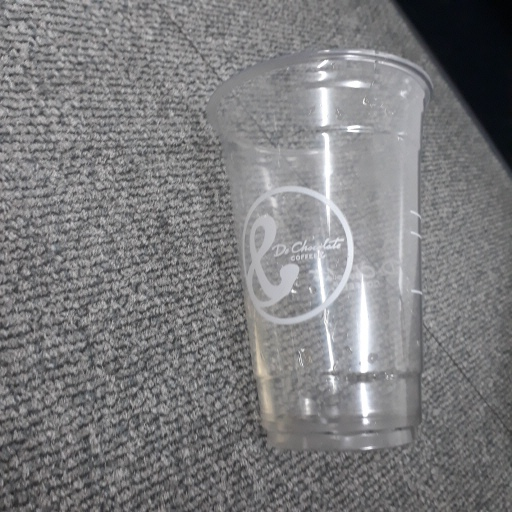Plastic_2: (207, 46, 438, 453)
